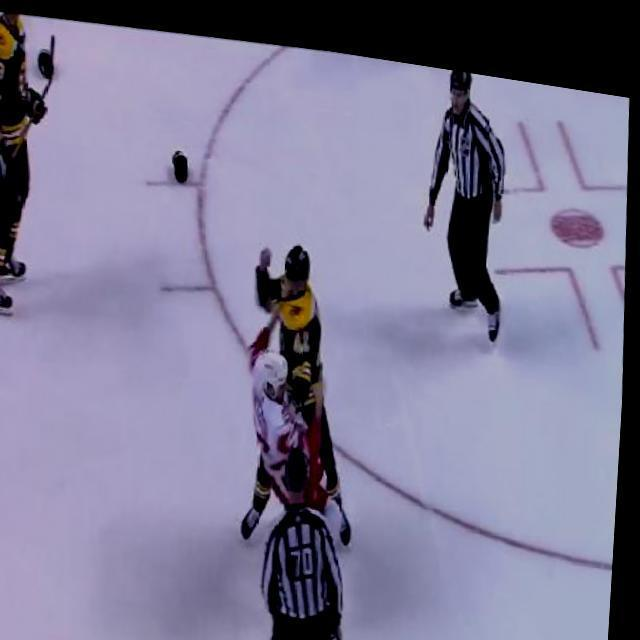fight: (235, 227, 375, 547)
